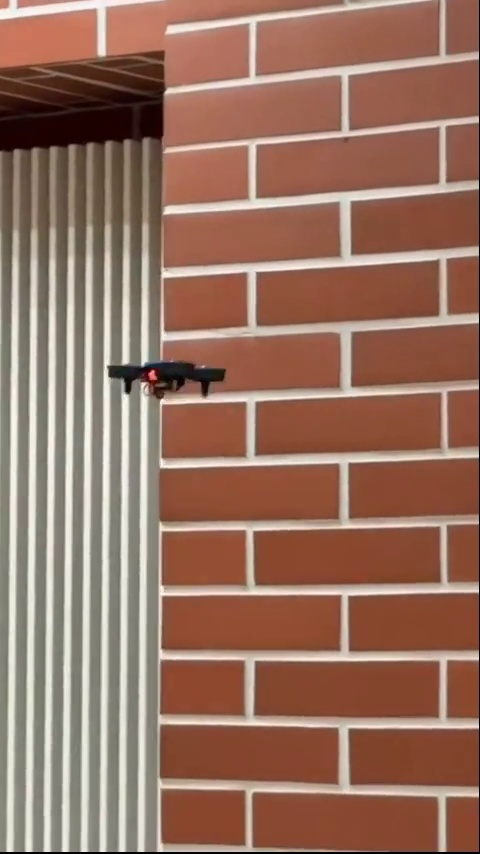drone: (109, 350, 238, 409)
